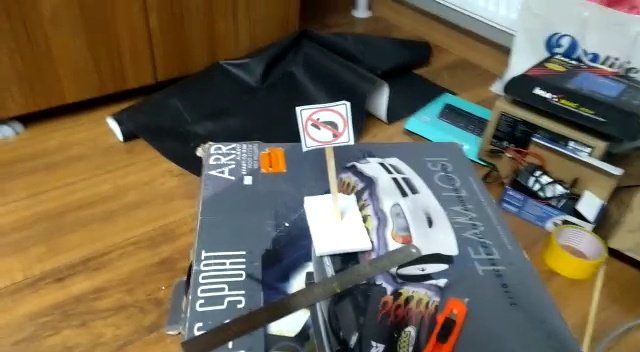sola_donulmez: (299, 106, 348, 150)
